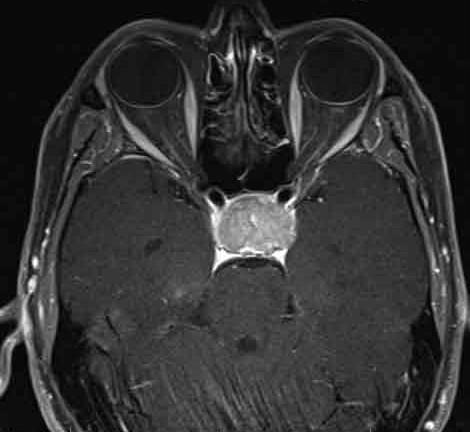Tumour-Pituitary: (205, 182, 305, 275)
